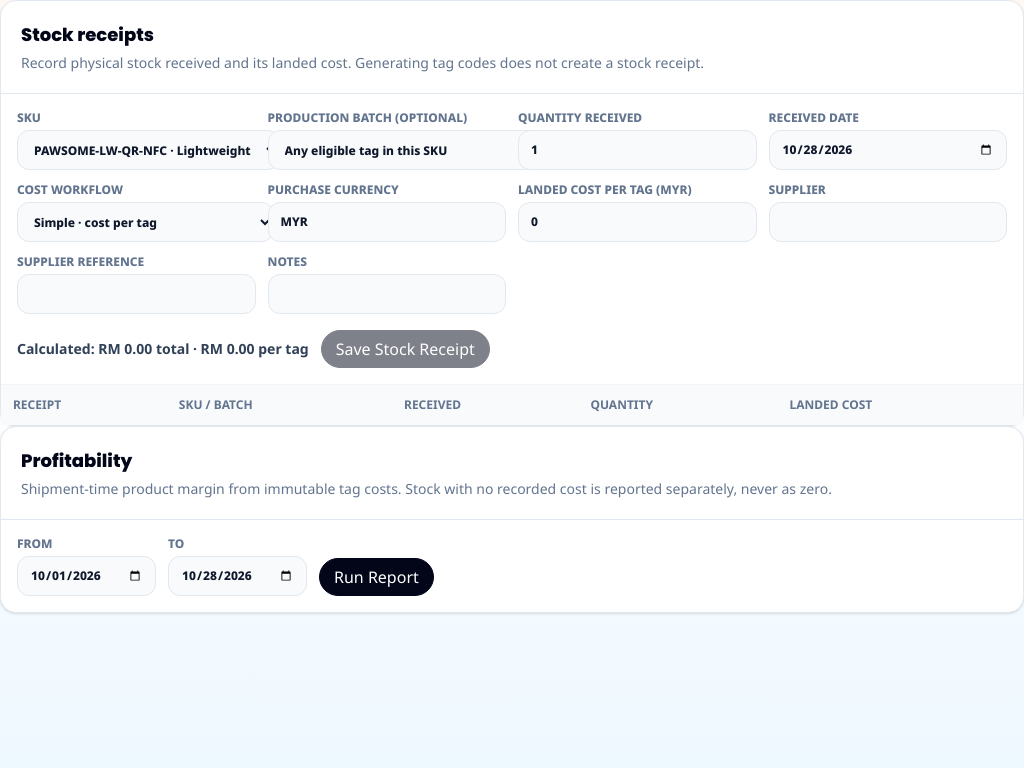
Test: AdminInventoryCostingPanel stock receipts › sends the shipment exactly, with no supplier, and confirms the saved receipt
Select "MPL-BAT-260911002857-1515 · 300 eligible" in the dropdown labelled "Production batch (optional)" at x=415, y=150, box [268,130,562,170]
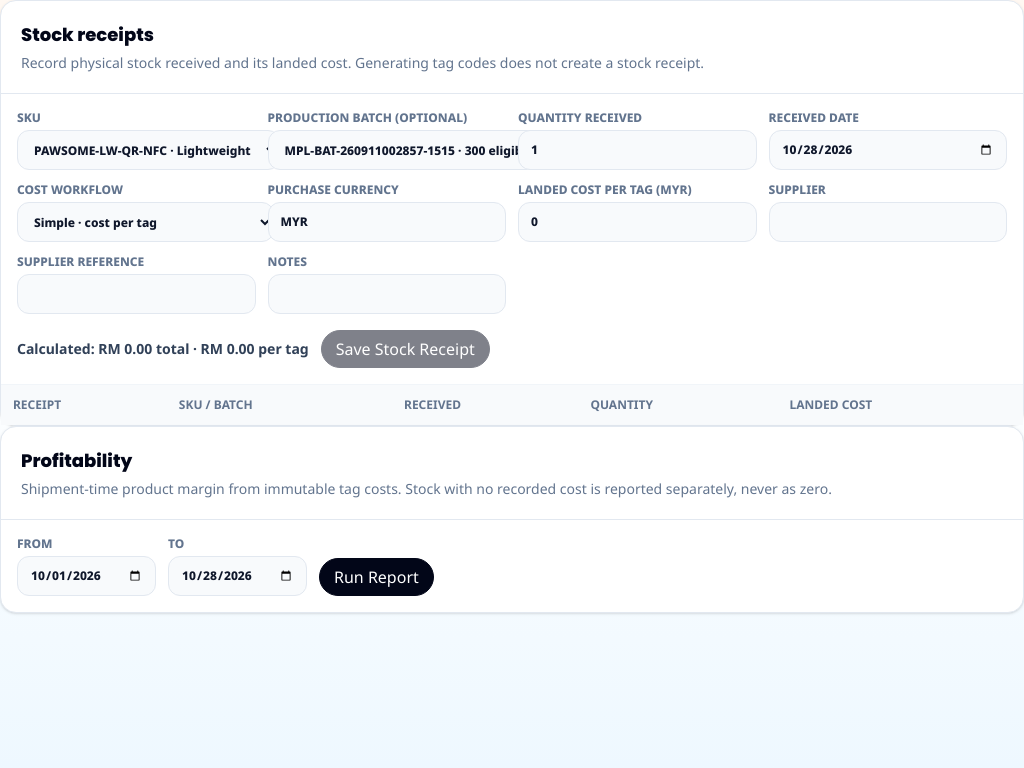
Replace the text in the number field labelled "Quantity received" with "300" at x=637, y=150, box [518,130,756,170]
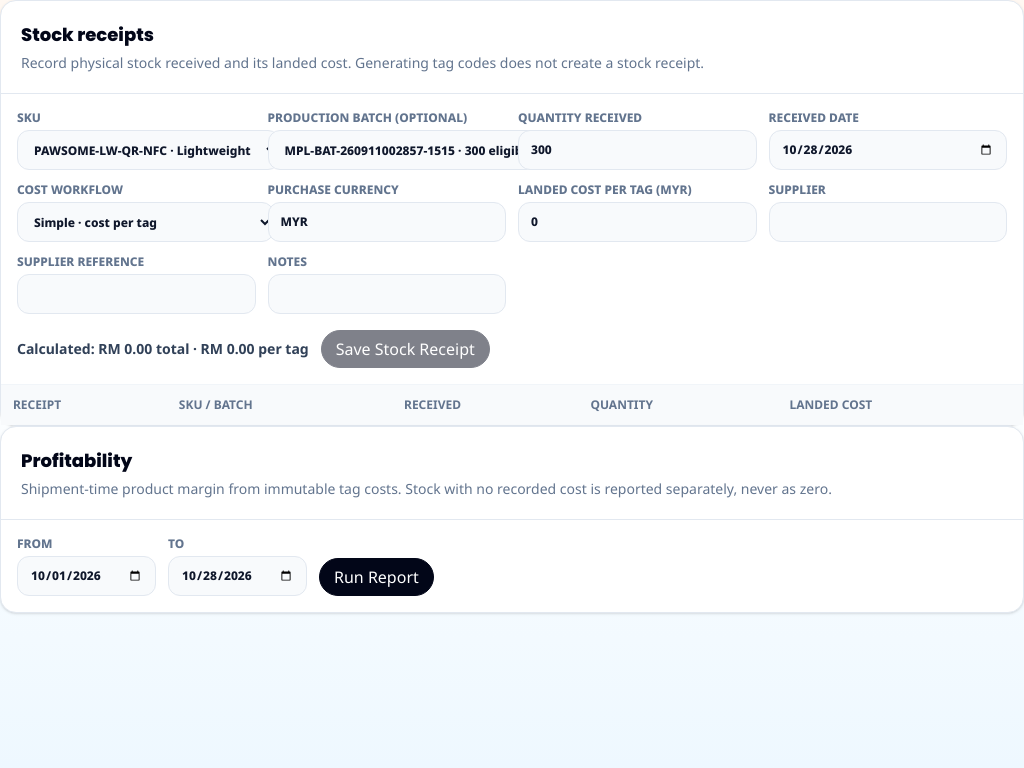
Type "2026-10-11" into the date field labelled "Received date" at x=888, y=150, box [768,130,1007,170]
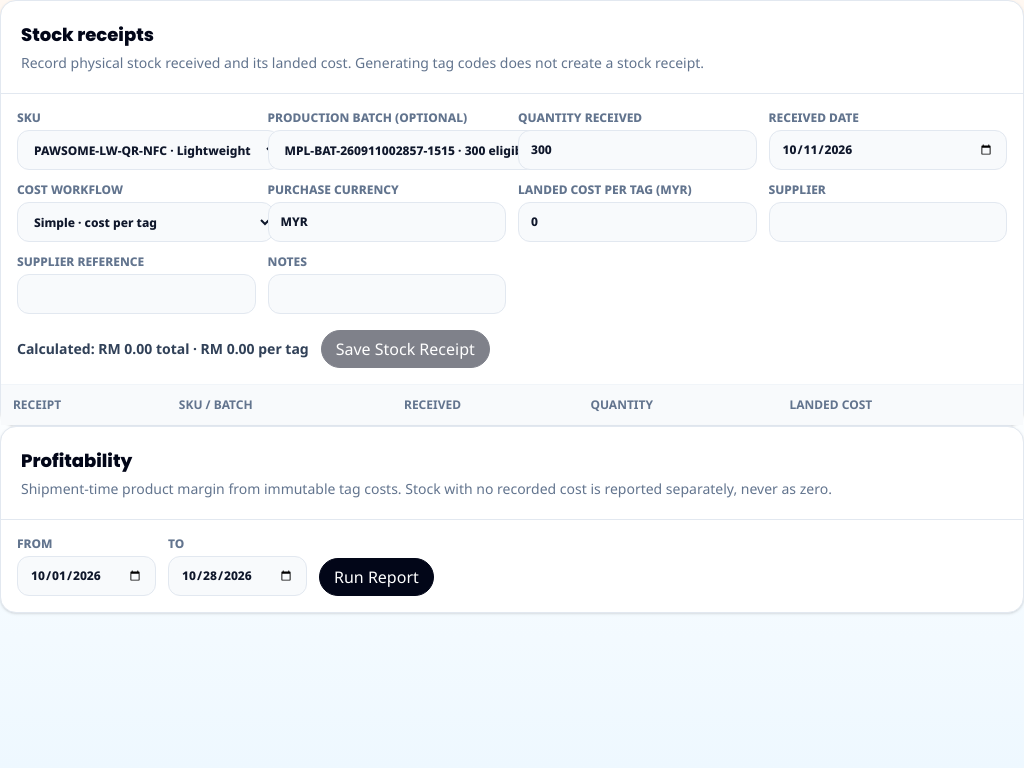
Replace the text in the number field labelled "Landed cost per tag (MYR)" with "3.1728" at x=637, y=222, box [518,202,756,242]
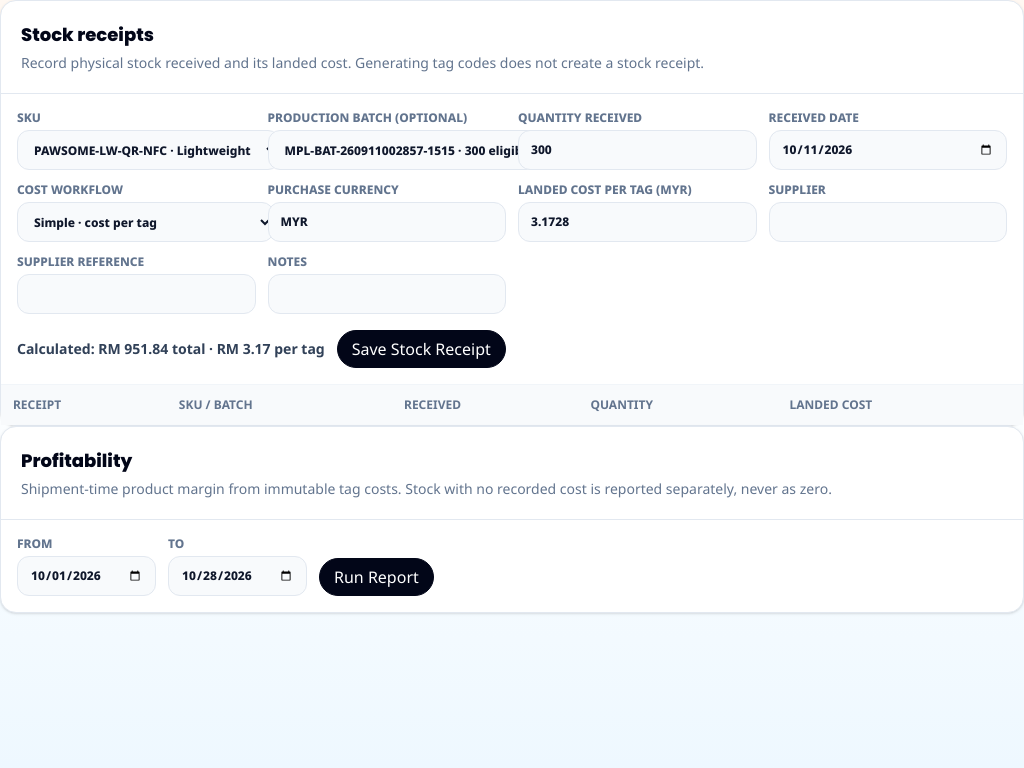
Expected: the text "Calculated: RM 951.84 total · RM 3.17 per tag" is shown, [17,339,325,359]
Click the button "Save Stock Receipt" at x=421, y=349, box [337,330,506,368]
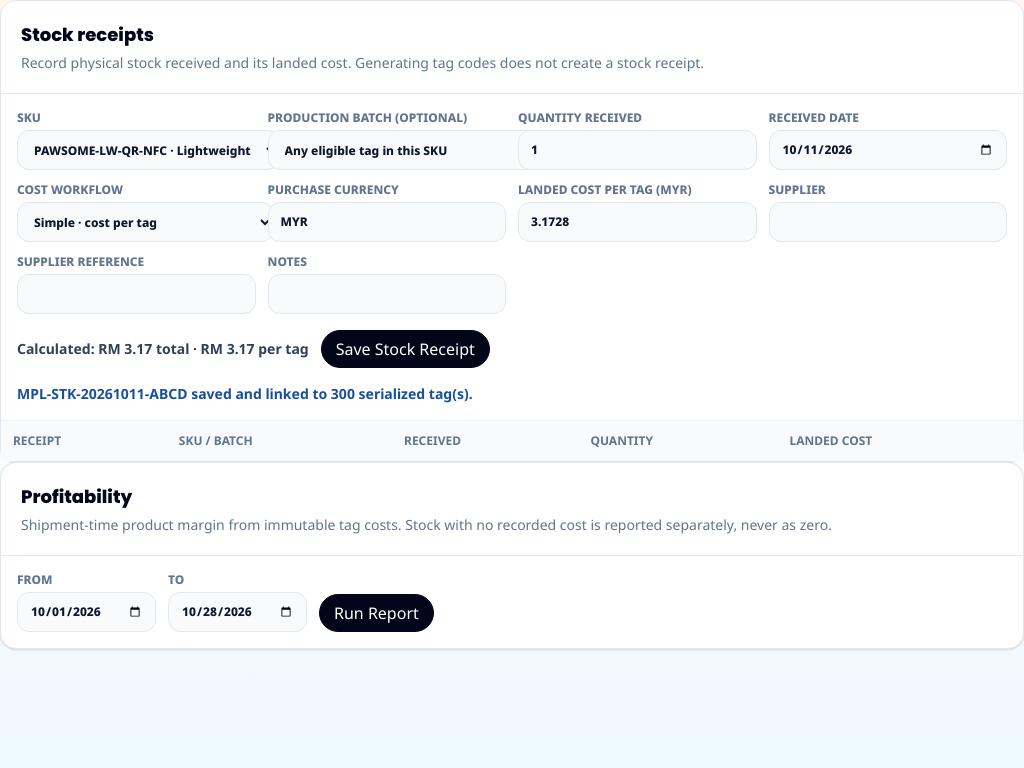
Expected: the message reads "MPL-STK-20261011-ABCD saved and linked to 300 serialized tag(s).", [17,384,473,403]
